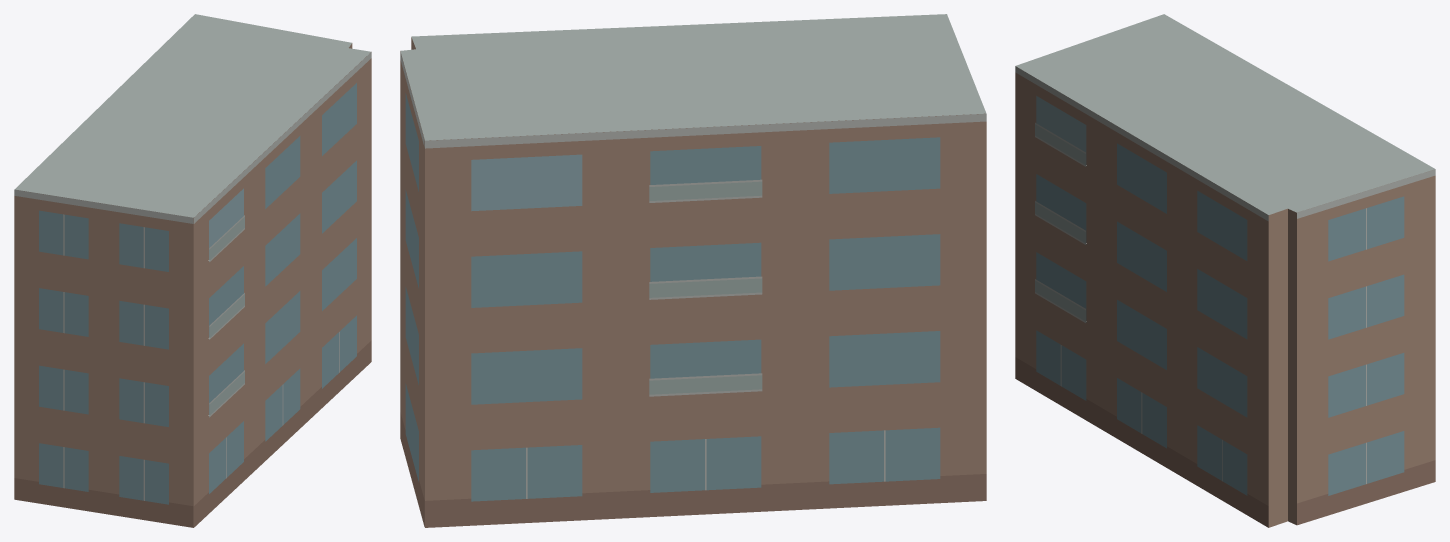
File: survey-upis-32879164.glb
3 renders of one model, left to right at view 1: azimuth 30°, elevation 25°; view 2: azimuth 150°, elevation 25°; view 3: azimuth 270°, elevation 25°, orthographic. The views are drawn at different scales.
Visible parts, largest first — view 1: survey-upis-32879164.tmp; view 2: survey-upis-32879164.tmp; view 3: survey-upis-32879164.tmp.
Boxes of the visible parts, x1,y1,x2,y2 form: survey-upis-32879164.tmp: (14, 14, 371, 527); survey-upis-32879164.tmp: (400, 14, 986, 527); survey-upis-32879164.tmp: (1015, 14, 1435, 527).
Size of the model in its own units: 16.57 by 12 by 14.63.
